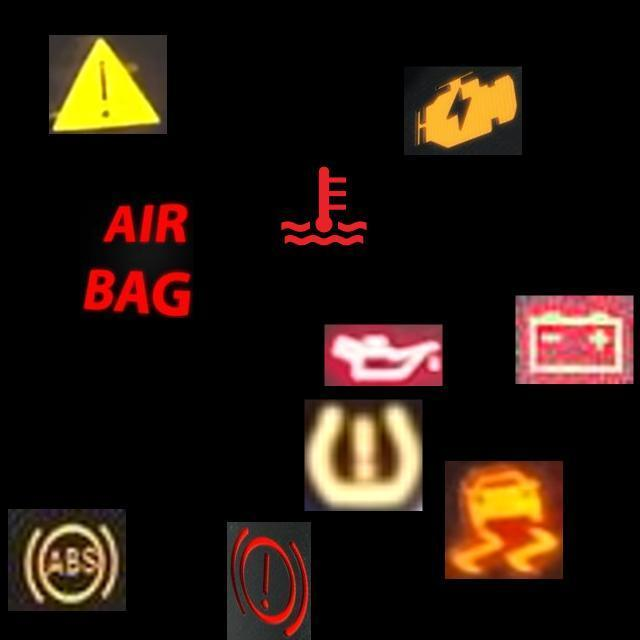Central Warning lamp: (49, 35, 167, 134)
Engine cooling system: (265, 147, 383, 265)
